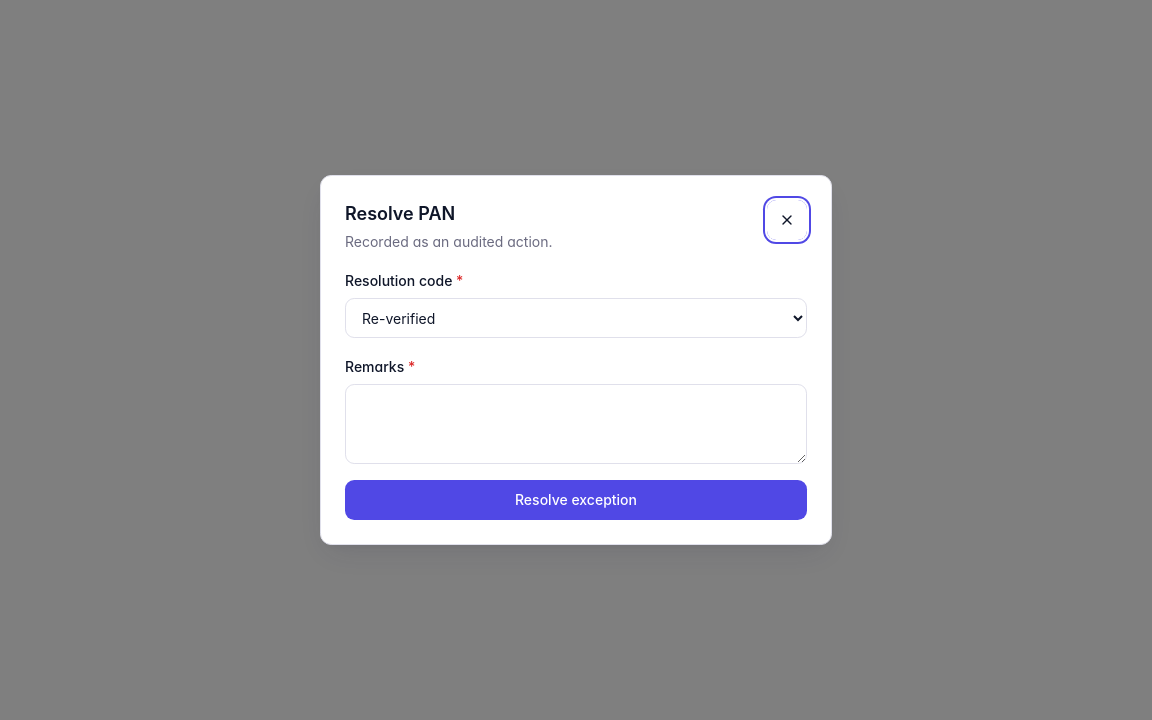
Test: ExceptionResolutionModal › UT-02 shows the evidence field only for waiver/provider_down codes
expect the field labelled "evidence" is not shown: met
Select "Authorised waiver" in the dropdown labelled "Resolution code *": (576, 318) [345,298,807,338]
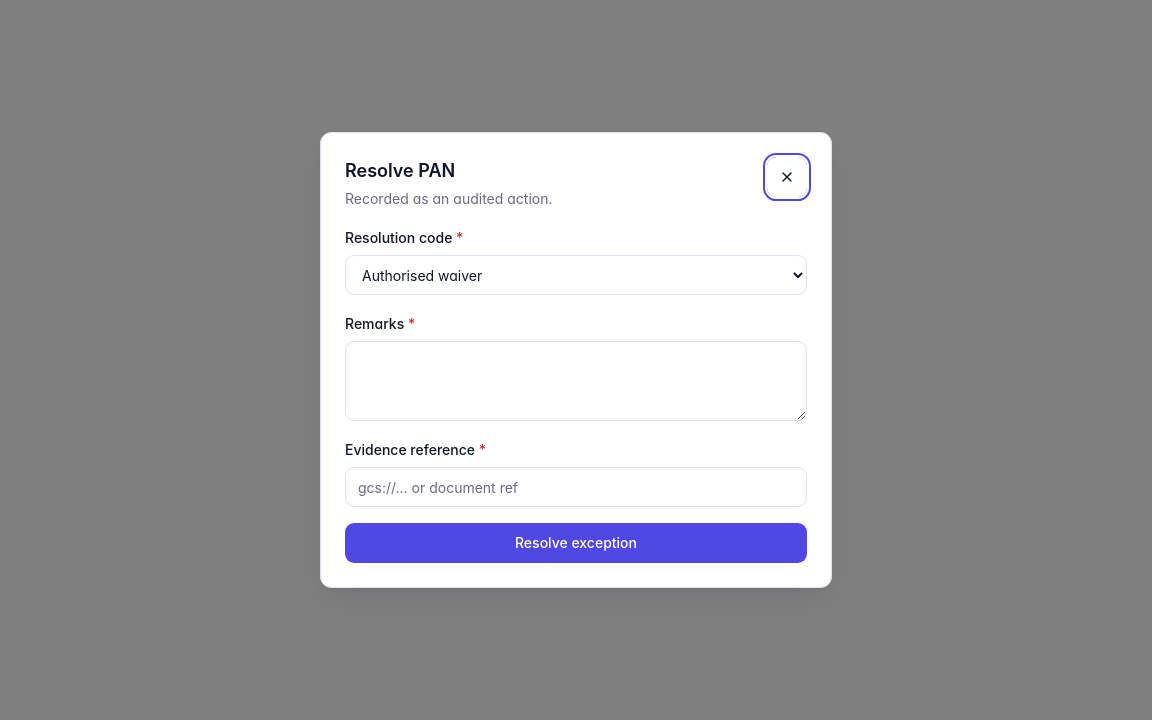
expect the field labelled "Evidence reference *" is shown: met, box [345,467,807,507]
